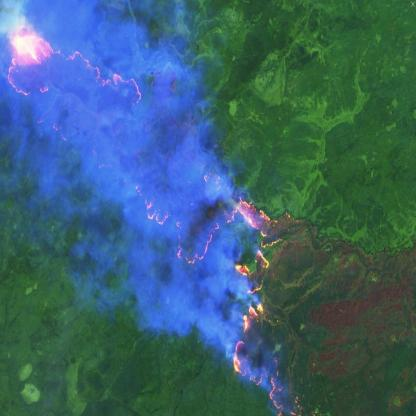fire: (5, 19, 317, 416)
